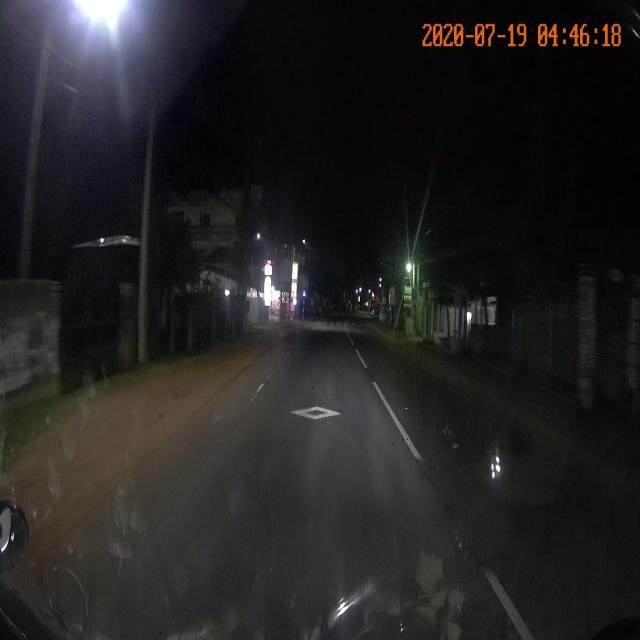diamond: (256, 380, 424, 459)
